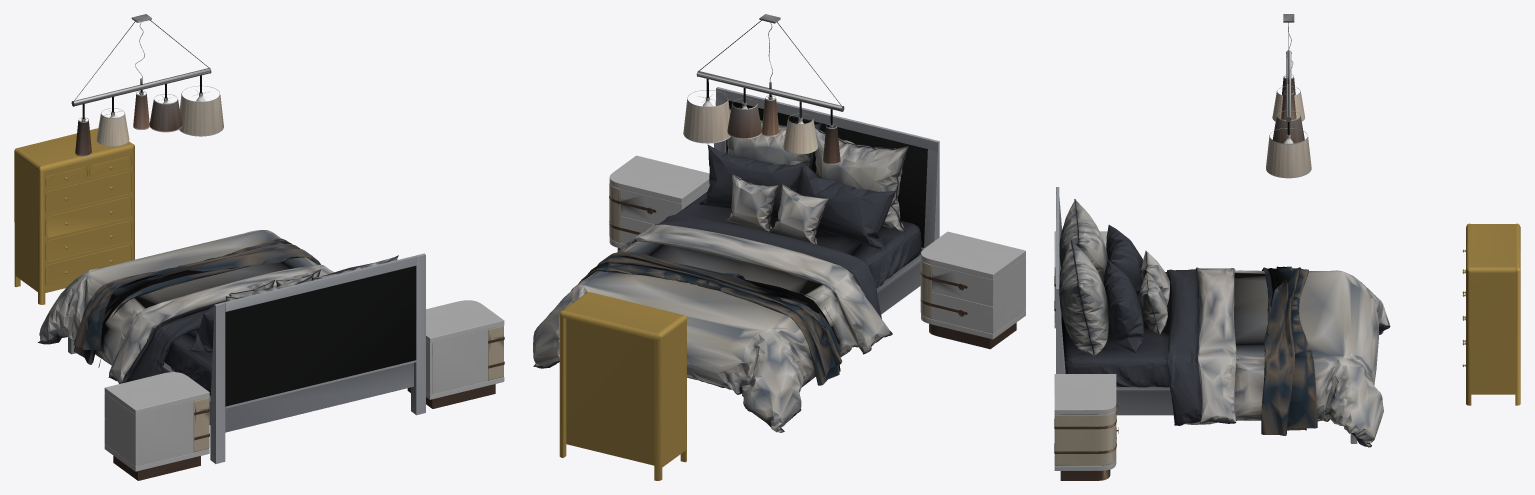
Rendered from gallery-front-bedroom-6442-lowres.glb.
3 renders of one model, left to right at view 1: azimuth 30°, elevation 25°; view 2: azimuth 150°, elevation 25°; view 3: azimuth 270°, elevation 25°, orthographic. The views are drawn at different scales.
Visible parts, largest first — view 1: assembled_scene; view 2: assembled_scene; view 3: assembled_scene.
Boxes of the visible parts, x1,y1,x2,y2 form: assembled_scene: (14, 14, 504, 480); assembled_scene: (533, 14, 1025, 480); assembled_scene: (1054, 14, 1520, 480).
Bounding box in the file's own units: 1.23 × 1.11 × 1.35.
